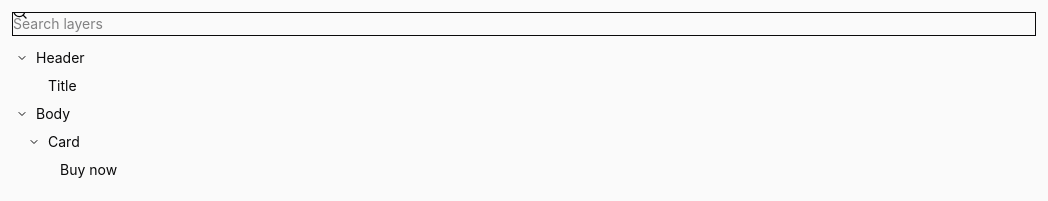
Test: rename › falls back to the component's own name when cleared
Click the button "Buy now" at (89, 170), box [60,159,984,182]
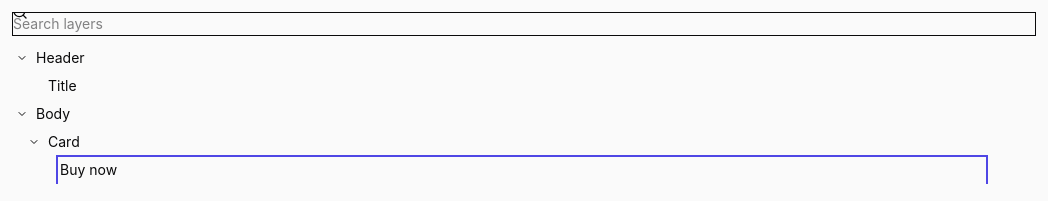
Press F2
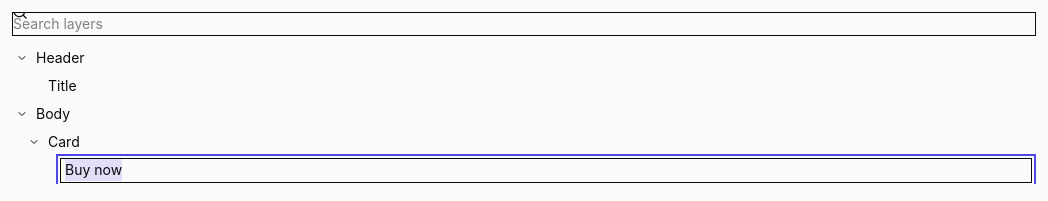
Clear the field named "Rename Buy now" at (546, 170), box [60,158,1032,183]
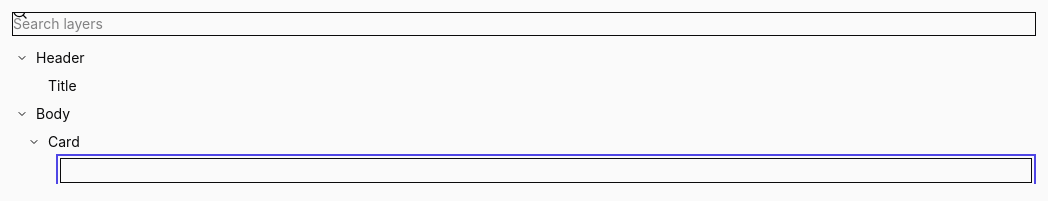
Press Enter
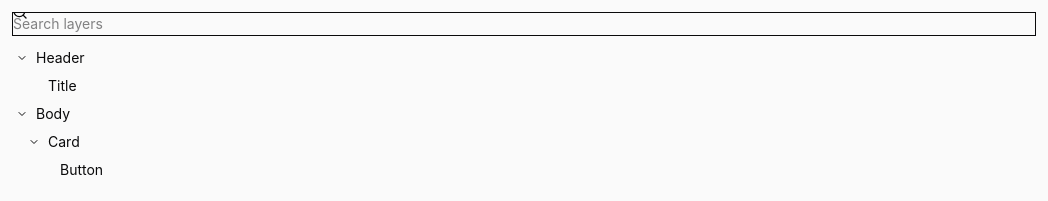
Now the button "Button" is shown, box [60,159,984,182]
